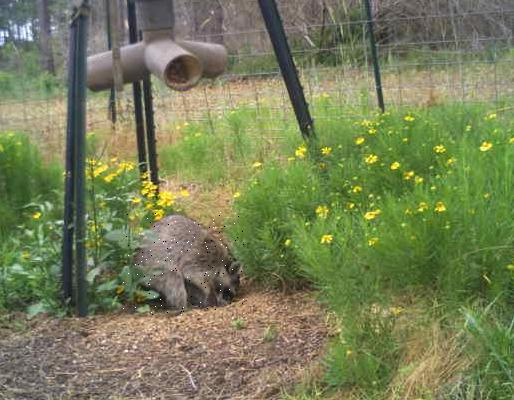Raccoon: (123, 210, 245, 316)
